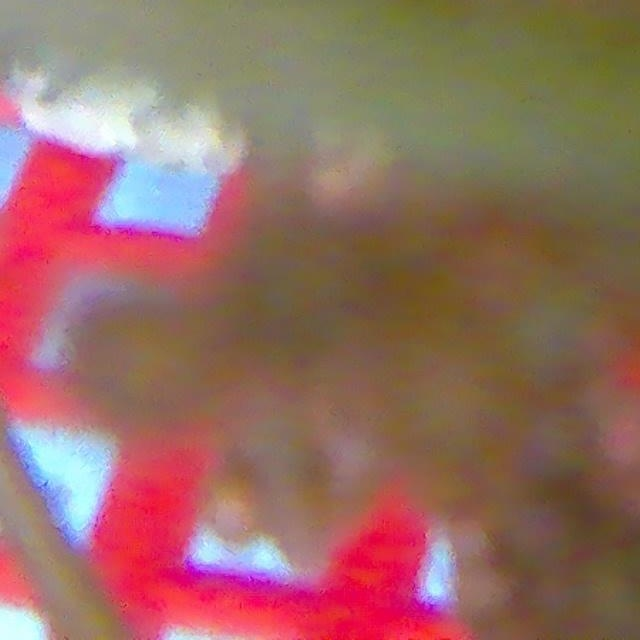SeaGrape: (506, 493, 583, 567), (576, 573, 640, 636)
